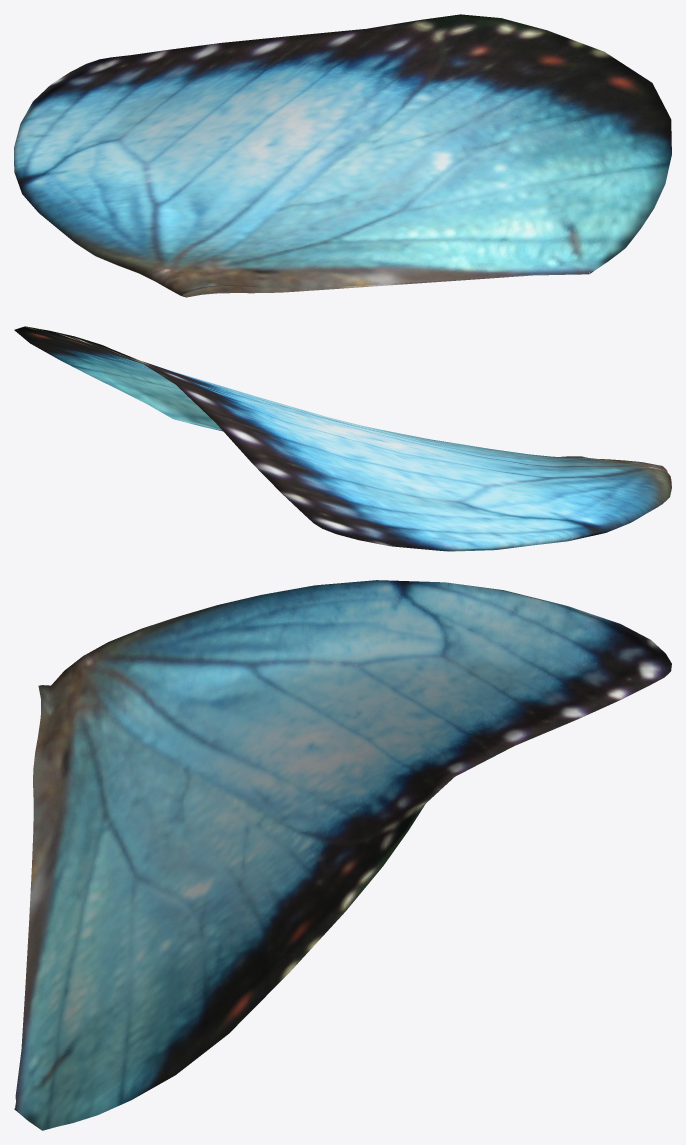
The model's file is ala2.obj.
The picture shows the model from 3 angles, top to bottom: view 1: azimuth 30°, elevation 25°; view 2: azimuth 150°, elevation 25°; view 3: azimuth 270°, elevation 25°; orthographic projection. The views are drawn at different scales.
Visible parts, largest first — view 1: ala2; view 2: ala2; view 3: ala2.
Part boxes in pixels (x1,y1,x2,y2): ala2: (14, 14, 671, 297); ala2: (14, 326, 671, 551); ala2: (14, 580, 671, 1130).
Size of the model in its own units: 22.88 by 6.37 by 13.84.
